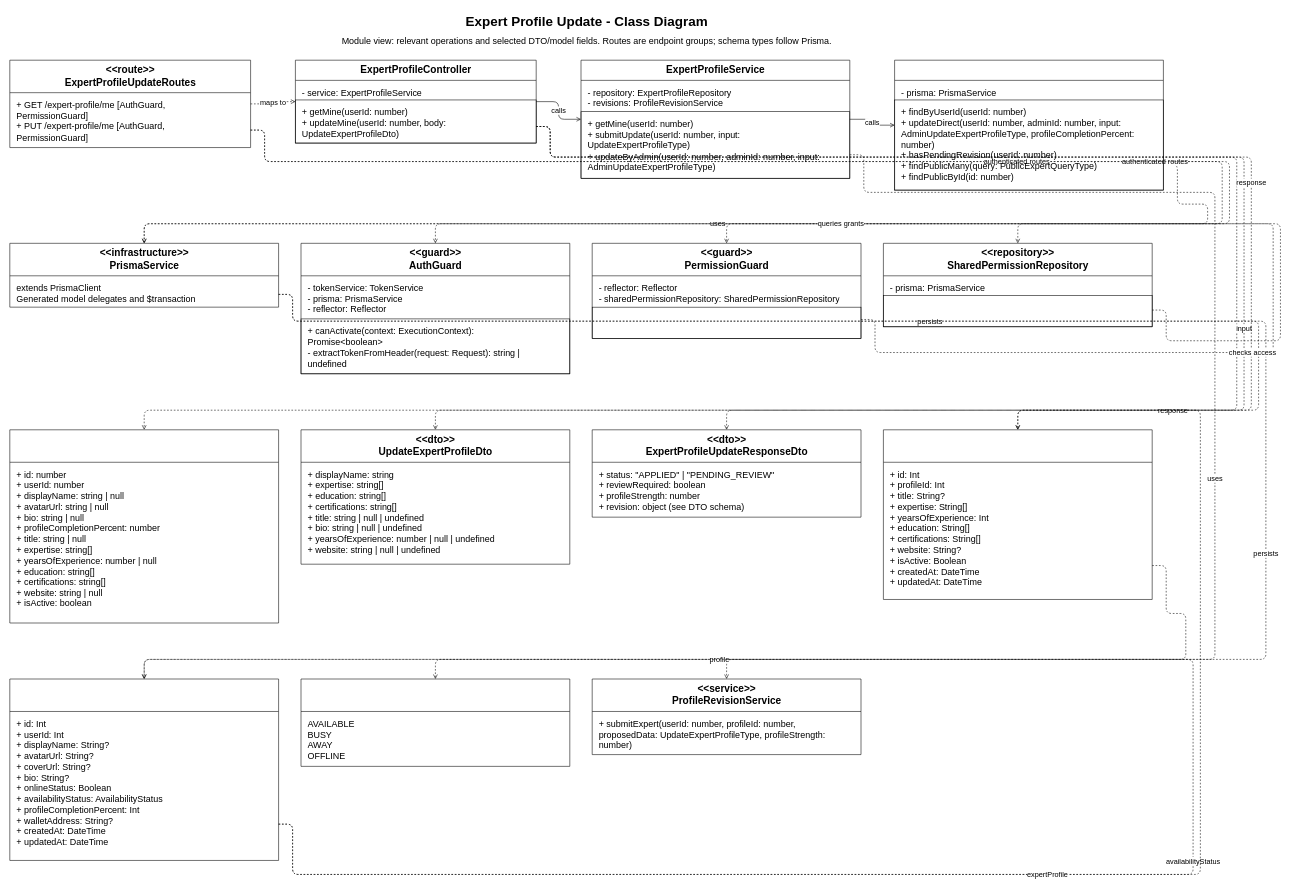
This 1295x889 diagram has some shape labels left out. The shapes that lost their labels are listed below. From the top down, each one's box as (x1, y1, x2, y2) in pixels, then its label:
(894, 60, 1163, 190): ExpertProfileRepository
(592, 307, 861, 339): + canActivate(context: ExecutionContext): Promise<boolean>
(883, 295, 1152, 327): + roleHasPermission(roleId: number, method: string, path: string)
(9, 429, 279, 623): <<dto>> ExpertProfileDto
(883, 429, 1152, 599): <<schema>> Expert
(300, 678, 570, 766): <<enum>> AvailabilityStatus
(9, 678, 279, 860): <<schema>> Profile
